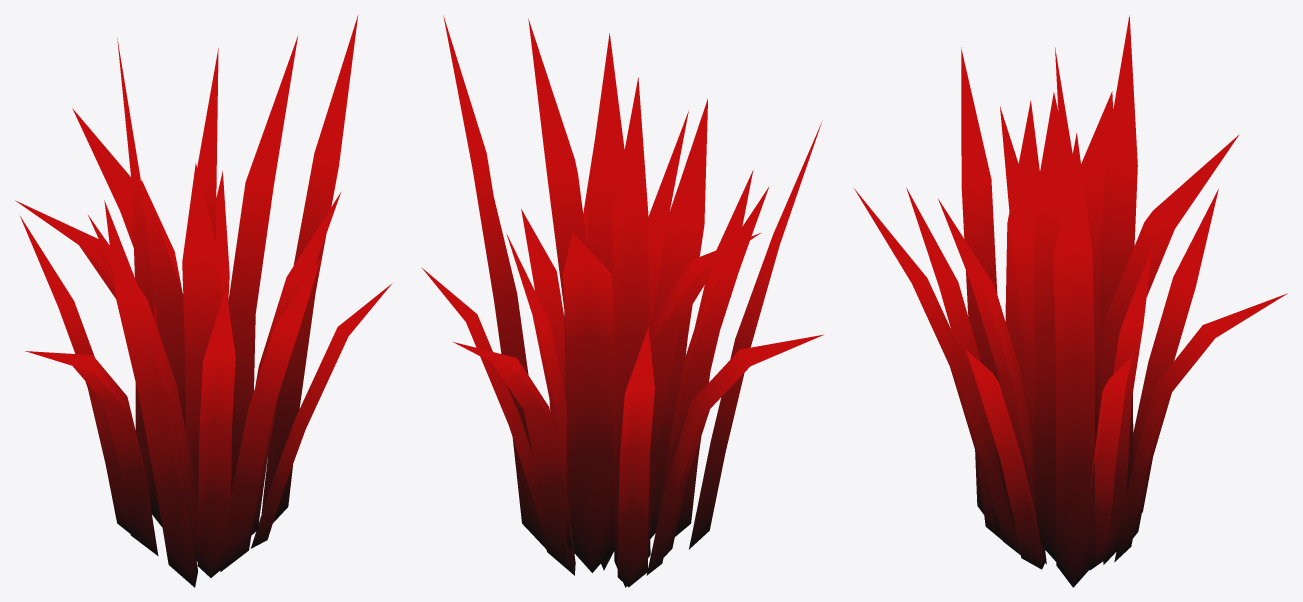
File: Grass.fbx
3 views of the same model, side by side, from view 1: azimuth 30°, elevation 25°; view 2: azimuth 150°, elevation 25°; view 3: azimuth 270°, elevation 25° (orthographic). The views are drawn at different scales.
Visible parts, largest first — view 1: Plane.001; view 2: Plane.001; view 3: Plane.001.
Boxes of the visible parts, box(x1,y1,x2,y2) form: Plane.001: box(15, 15, 392, 587); Plane.001: box(421, 15, 823, 587); Plane.001: box(854, 15, 1287, 587).
Size of the model in its own units: 143 by 198 by 151.
